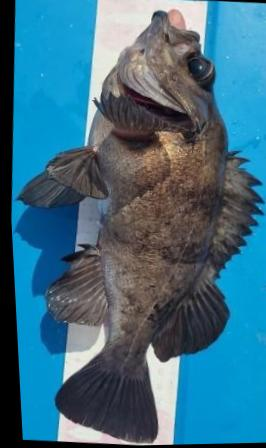fish: (16, 9, 261, 444)
